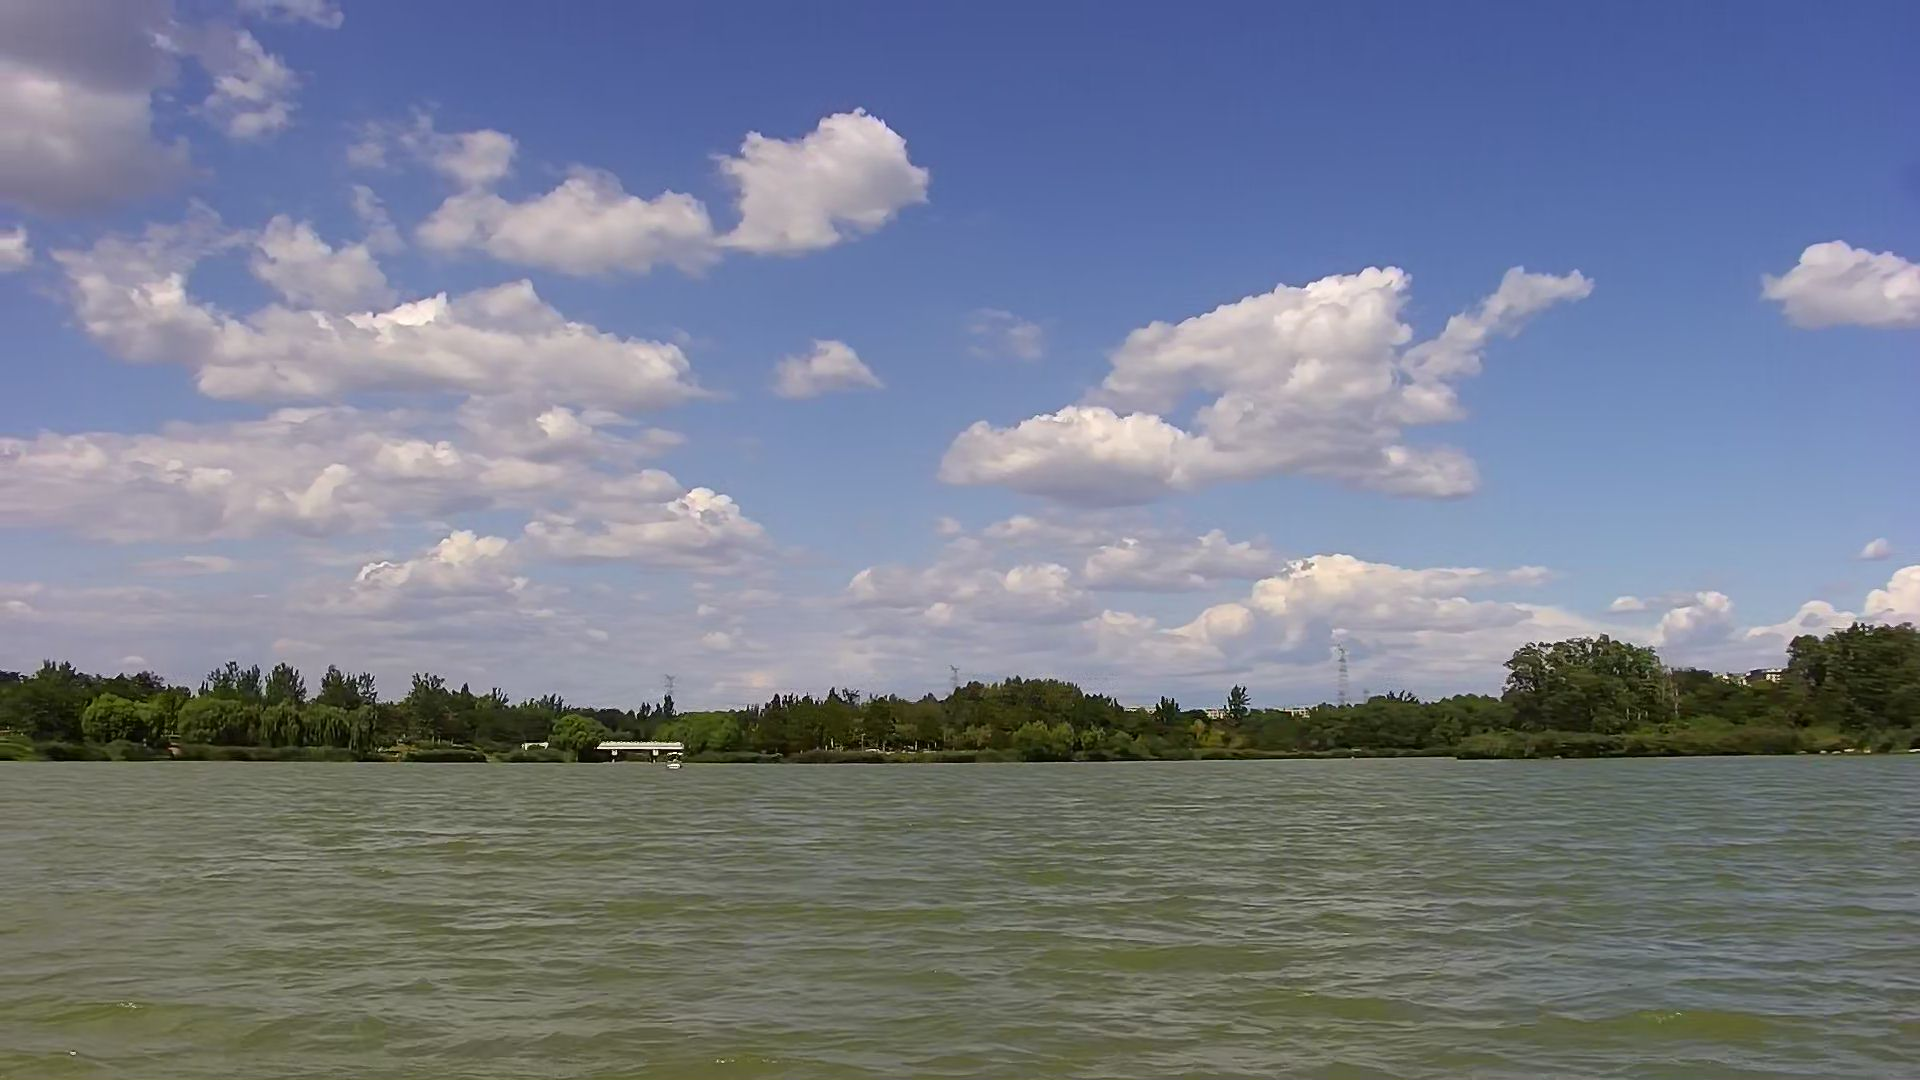harbor: (593, 735, 684, 769)
